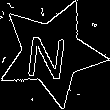N_N: (28, 25, 75, 81)
